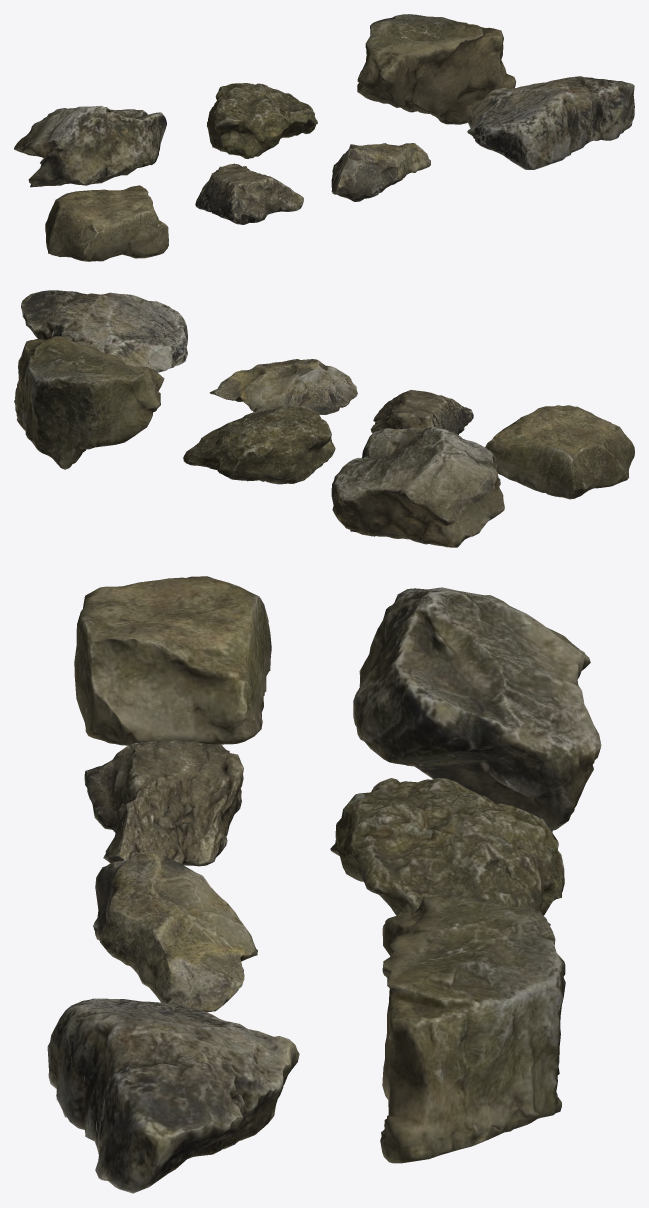
Rendered from V_rock_moss_set_02.glb.
The picture shows the model from 3 angles, top to bottom: view 1: azimuth 30°, elevation 25°; view 2: azimuth 150°, elevation 25°; view 3: azimuth 270°, elevation 25°; orthographic projection. The views are drawn at different scales.
Visible parts, largest first — view 1: V_rock_moss_set_02; view 2: V_rock_moss_set_02; view 3: V_rock_moss_set_02.
Part boxes in pixels (bbox=[...]): V_rock_moss_set_02: bbox=[14, 14, 634, 261]; V_rock_moss_set_02: bbox=[14, 290, 634, 547]; V_rock_moss_set_02: bbox=[47, 576, 601, 1193].
Size of the model in its own units: 8.28 by 1.36 by 3.41.
1 material, 1 textured.
